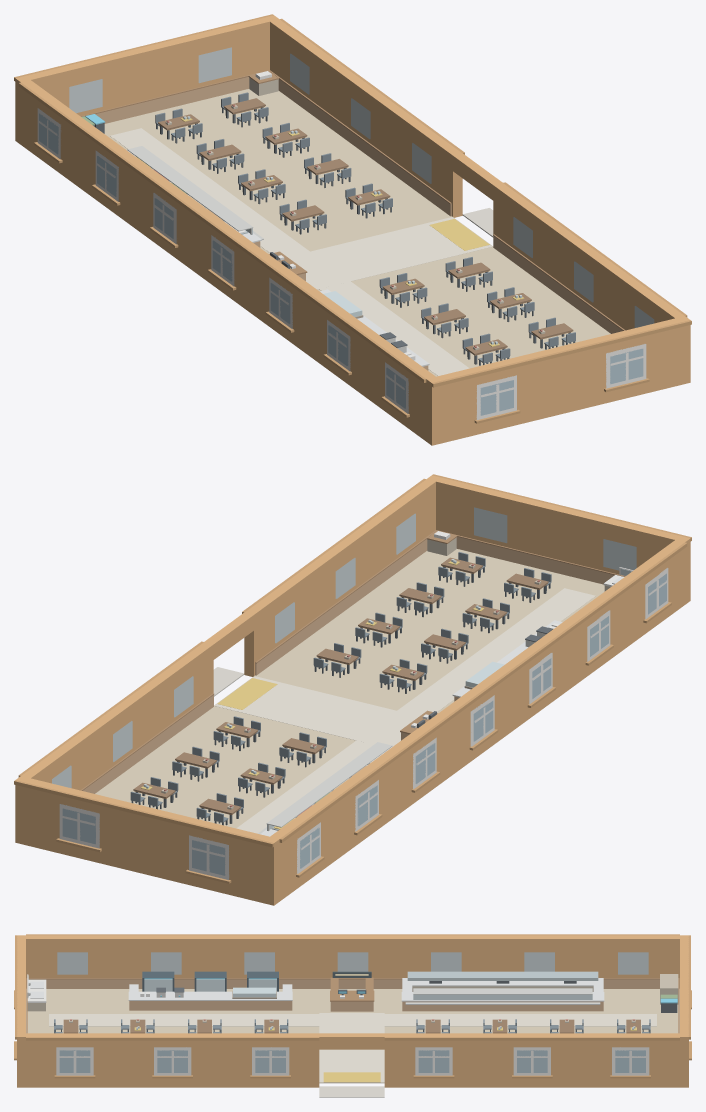
File: CANTEEN.glb
The picture shows the model from 3 angles, top to bottom: view 1: azimuth 30°, elevation 25°; view 2: azimuth 150°, elevation 25°; view 3: azimuth 270°, elevation 25°; orthographic projection. The views are drawn at different scales.
Parts seen in each view (by area): view 1: HUS_CANTEEN__F1__E08A45, HUS_CANTEEN__F1__CDB892, HUS_CANTEEN__F1__E6DCC6, HUS_CANTEEN__F1__4A5A66, HUS_CANTEEN__F1__C1773B, HUS_CANTEEN__F1__C48A5A, HUS_CANTEEN__F1__B4C7CD, HUS_CANTEEN__F1__6E4A30, HUS_CANTEEN__F1__FBF8F1, HUS_CANTEEN__F1__86A9BC, HUS_CANTEEN__F1__2B3238, HUS_CANTEEN__F1__87AABD (+5 smaller); view 2: HUS_CANTEEN__F1__E08A45, HUS_CANTEEN__F1__CDB892, HUS_CANTEEN__F1__E6DCC6, HUS_CANTEEN__F1__4A5A66, HUS_CANTEEN__F1__C1773B, HUS_CANTEEN__F1__C48A5A, HUS_CANTEEN__F1__B4C7CD, HUS_CANTEEN__F1__FBF8F1, HUS_CANTEEN__F1__6E4A30, HUS_CANTEEN__F1__86A9BC, HUS_CANTEEN__F1__2B3238, HUS_CANTEEN__F1__8D5A34 (+5 smaller); view 3: HUS_CANTEEN__F1__E08A45, HUS_CANTEEN__F1__CDB892, HUS_CANTEEN__F1__E6DCC6, HUS_CANTEEN__F1__C48A5A, HUS_CANTEEN__F1__B4C7CD, HUS_CANTEEN__F1__C1773B, HUS_CANTEEN__F1__FBF8F1, HUS_CANTEEN__F1__E6ECEE, HUS_CANTEEN__F1__86A9BC, HUS_CANTEEN__F1__BFDDE6, HUS_CANTEEN__F1__C9CCC6, HUS_CANTEEN__F1__9DB4BC (+12 smaller).
Boxes of the visible parts, x1,y1,x2,y2 form: HUS_CANTEEN__F1__E08A45: [15, 15, 690, 445]; HUS_CANTEEN__F1__CDB892: [104, 89, 610, 376]; HUS_CANTEEN__F1__E6DCC6: [110, 128, 492, 375]; HUS_CANTEEN__F1__4A5A66: [93, 92, 575, 363]; HUS_CANTEEN__F1__C1773B: [14, 14, 691, 387]; HUS_CANTEEN__F1__C48A5A: [95, 77, 622, 370]; HUS_CANTEEN__F1__B4C7CD: [69, 47, 654, 327]; HUS_CANTEEN__F1__6E4A30: [158, 98, 573, 354]; HUS_CANTEEN__F1__FBF8F1: [37, 108, 646, 419]; HUS_CANTEEN__F1__86A9BC: [154, 198, 513, 415]; HUS_CANTEEN__F1__2B3238: [94, 107, 575, 365]; HUS_CANTEEN__F1__87AABD: [39, 113, 643, 384]; HUS_CANTEEN__F1__E08A45: [15, 475, 690, 905]; HUS_CANTEEN__F1__CDB892: [95, 549, 604, 828]; HUS_CANTEEN__F1__E6DCC6: [214, 588, 595, 833]; HUS_CANTEEN__F1__4A5A66: [130, 552, 551, 822]; HUS_CANTEEN__F1__C1773B: [14, 474, 691, 847]; HUS_CANTEEN__F1__C48A5A: [83, 537, 614, 793]; HUS_CANTEEN__F1__B4C7CD: [52, 507, 636, 788]; HUS_CANTEEN__F1__FBF8F1: [59, 567, 668, 879]; HUS_CANTEEN__F1__6E4A30: [133, 557, 548, 814]; HUS_CANTEEN__F1__86A9BC: [62, 573, 666, 875]; HUS_CANTEEN__F1__2B3238: [131, 566, 552, 825]; HUS_CANTEEN__F1__8D5A34: [80, 530, 625, 814]; HUS_CANTEEN__F1__E08A45: [17, 935, 688, 1087]; HUS_CANTEEN__F1__CDB892: [26, 989, 679, 1083]; HUS_CANTEEN__F1__E6DCC6: [49, 1013, 656, 1082]; HUS_CANTEEN__F1__C48A5A: [29, 979, 659, 1011]; HUS_CANTEEN__F1__B4C7CD: [57, 952, 648, 974]; HUS_CANTEEN__F1__C1773B: [15, 934, 690, 1040]; HUS_CANTEEN__F1__FBF8F1: [27, 974, 649, 1075]; HUS_CANTEEN__F1__E6ECEE: [30, 978, 604, 1001]; HUS_CANTEEN__F1__86A9BC: [59, 1050, 547, 1072]; HUS_CANTEEN__F1__BFDDE6: [136, 979, 635, 1029]; HUS_CANTEEN__F1__C9CCC6: [28, 982, 600, 1004]; HUS_CANTEEN__F1__9DB4BC: [407, 971, 598, 980].
Bounding box in the file's own units: 19.31 × 4 × 48.67.
